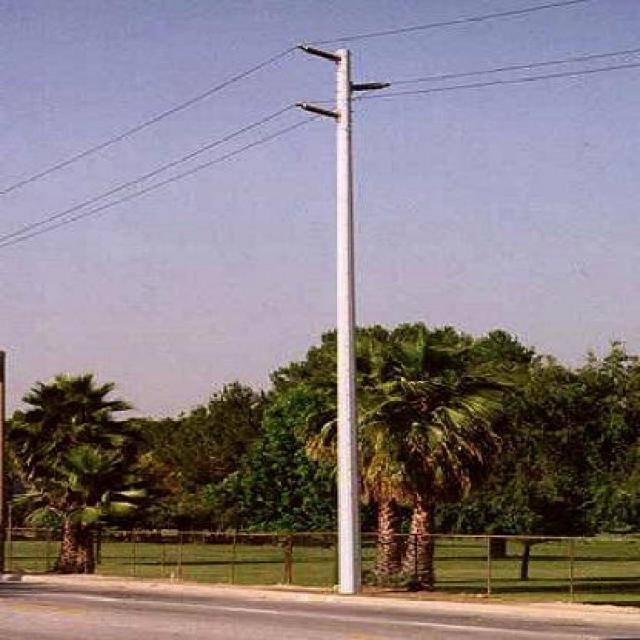crossarm: (300, 46, 342, 68), (297, 102, 346, 120), (351, 78, 392, 92)
pole: (334, 49, 362, 597)
wire: (0, 0, 595, 195), (0, 97, 337, 243), (0, 114, 323, 251), (352, 61, 640, 98), (393, 46, 640, 87)
